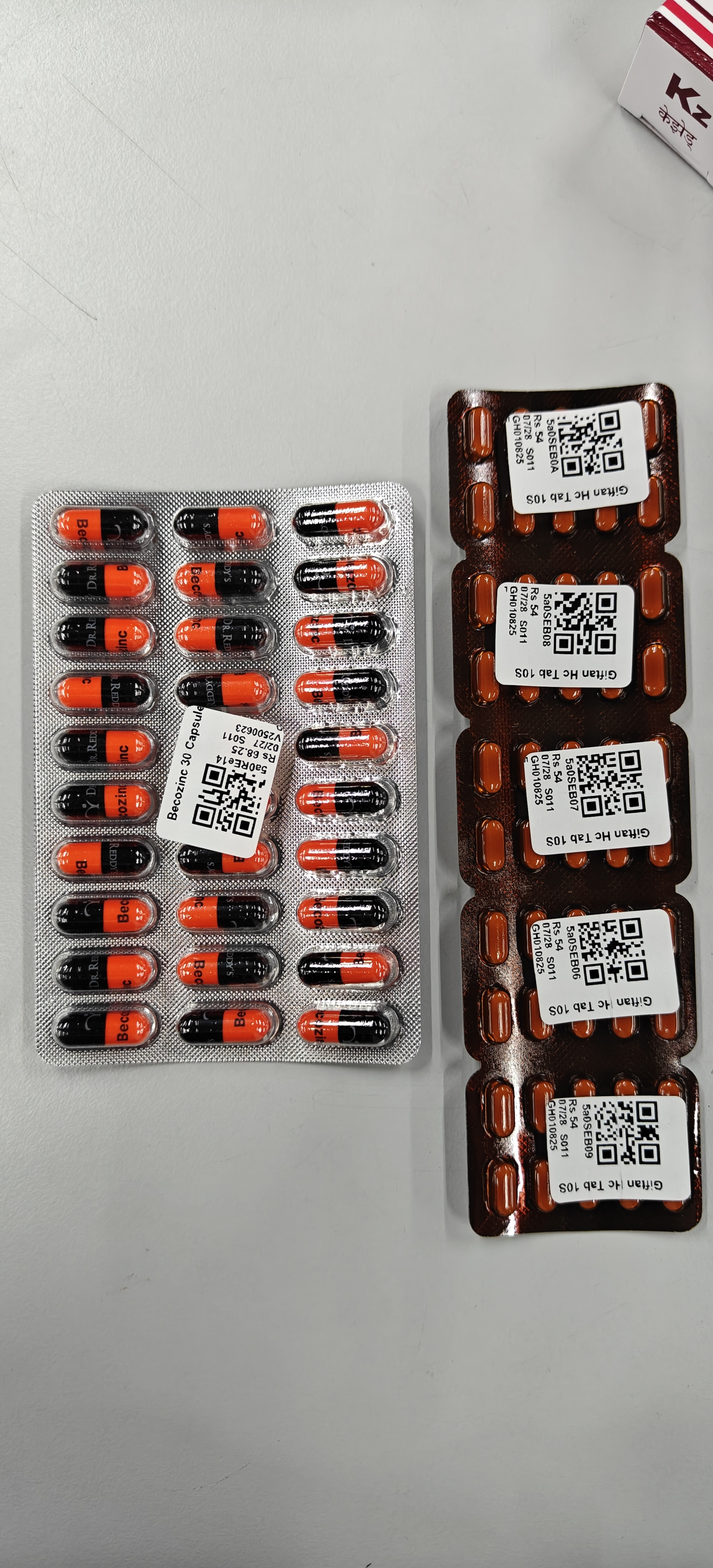qr_code: (191, 763, 266, 838), (575, 749, 646, 818), (577, 917, 648, 986), (557, 409, 624, 477), (593, 1101, 660, 1165), (553, 592, 617, 654)
